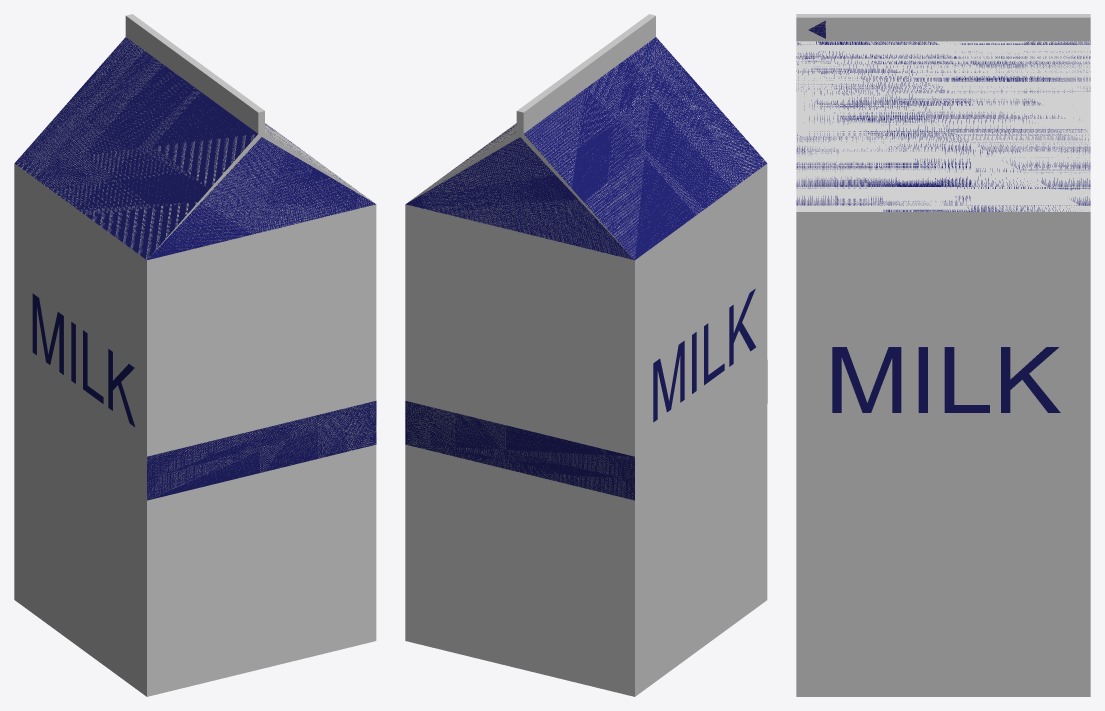
Rendered from milk_carton.dae.
3 views of the same model, side by side, from view 1: azimuth 30°, elevation 25°; view 2: azimuth 150°, elevation 25°; view 3: azimuth 270°, elevation 25° (orthographic). The views are drawn at different scales.
Visible parts, largest first — view 1: SketchUp (×6), MILK (×2); view 2: SketchUp (×6), MILK (×2); view 3: SketchUp (×3), MILK (×4).
Part boxes in pixels (box(x1,y1,x2,y2)): SketchUp (×6): box(14, 14, 376, 696); MILK (×2): box(32, 293, 135, 426); SketchUp (×6): box(405, 14, 767, 696); MILK (×2): box(653, 288, 755, 422); SketchUp (×3): box(796, 14, 1090, 696); MILK (×4): box(832, 347, 1060, 412).
Bounding box in the file's own units: 5.77 × 5.76 × 13.36.
